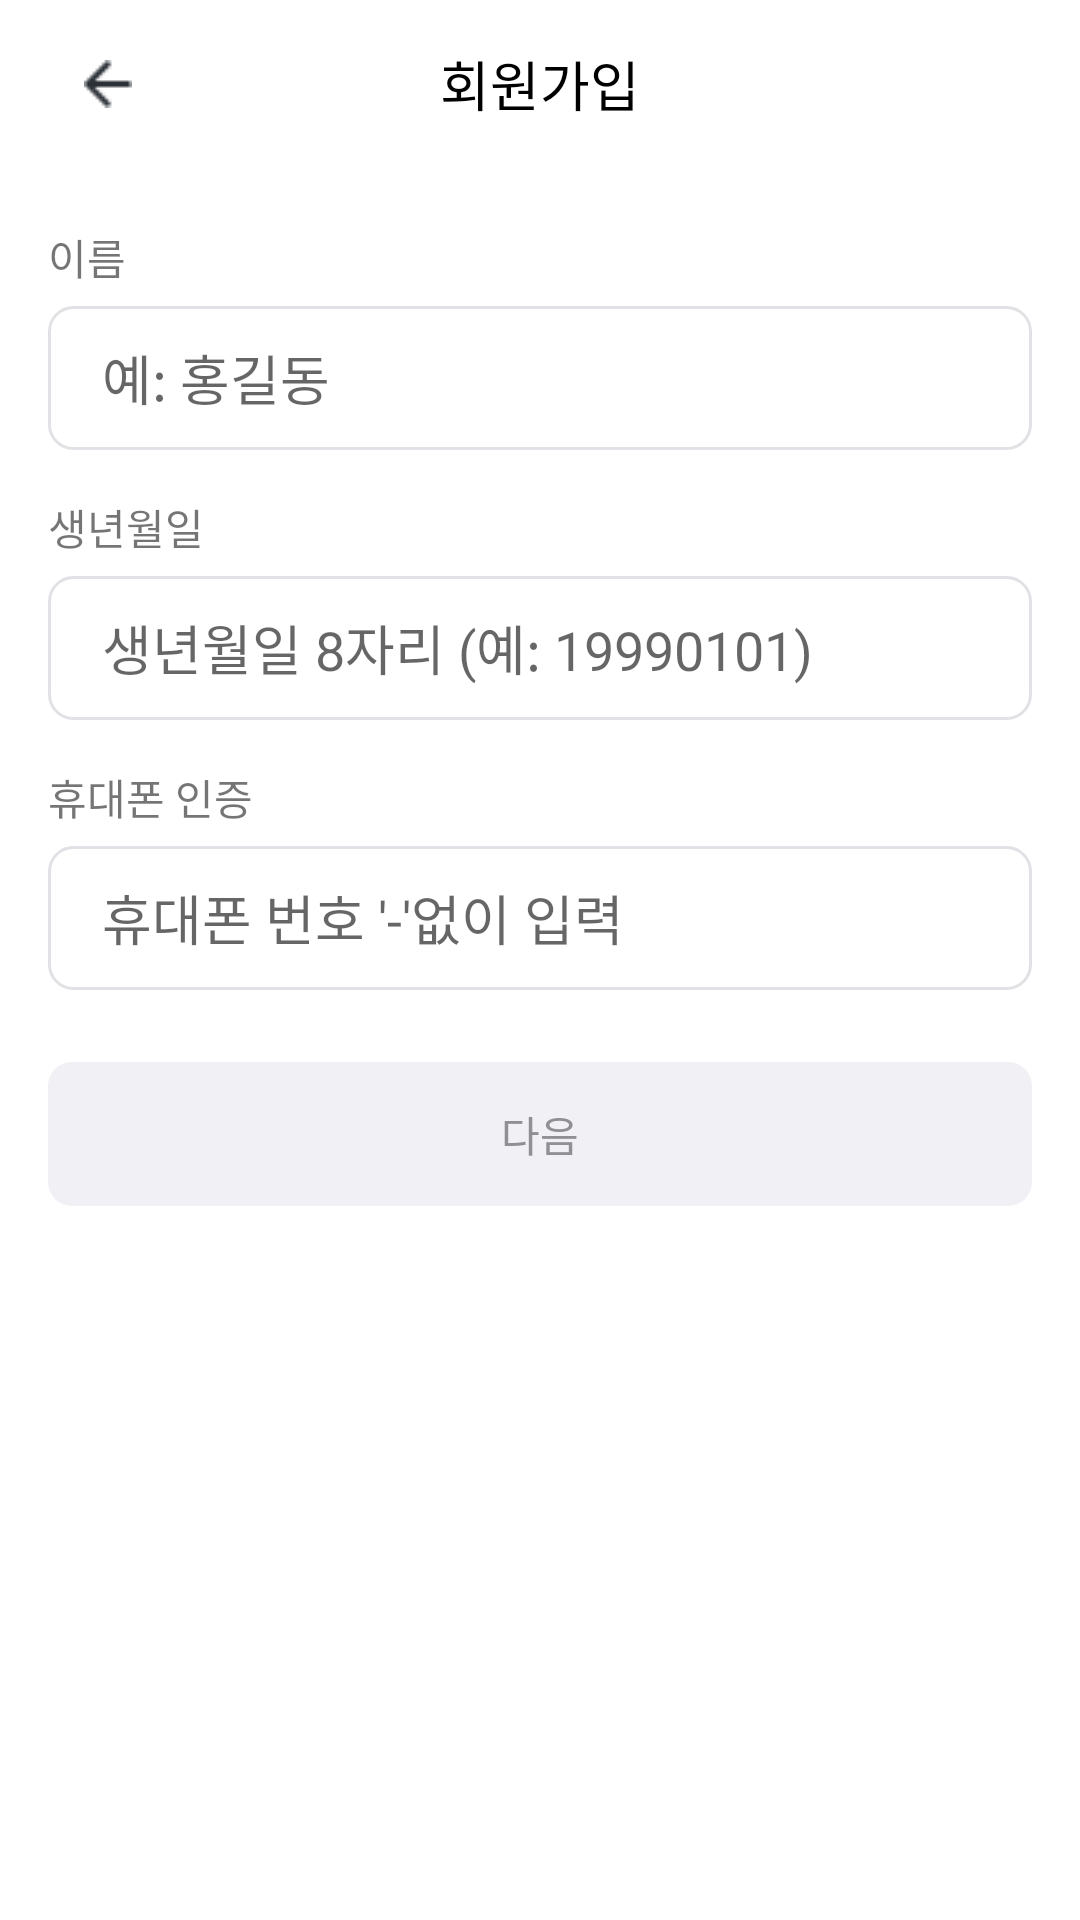

Icons on this 1080*1920 Android screen, each with its box as box=[x1, y1, x2, y2]:
back arrow: box=[84, 60, 132, 108]
